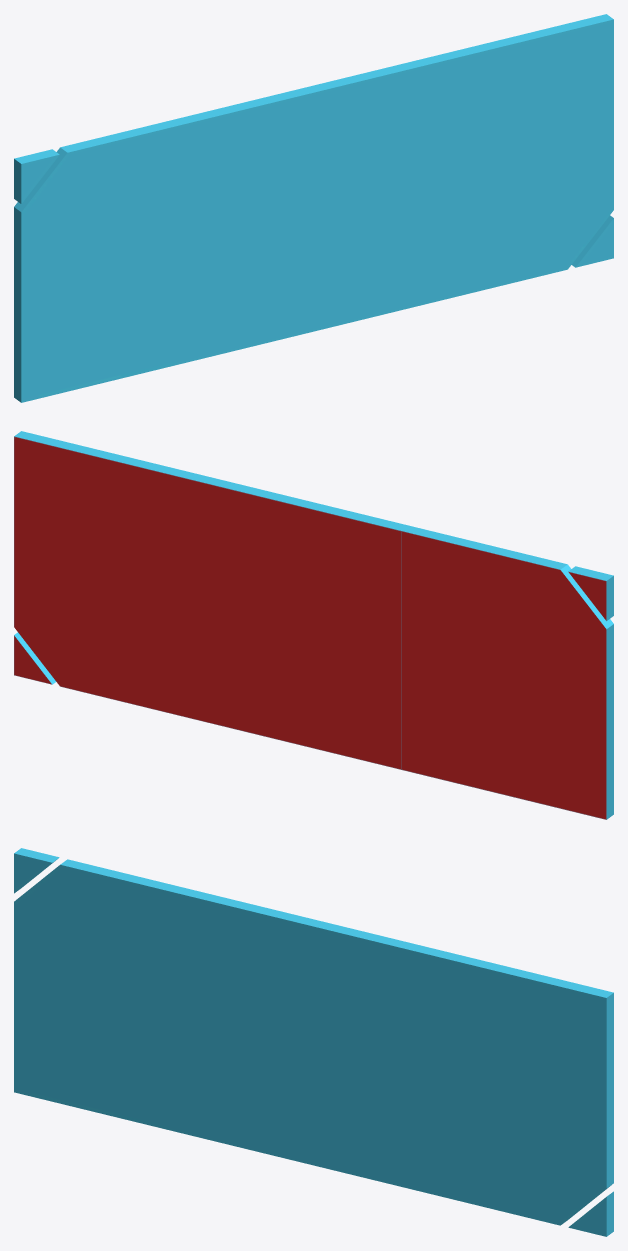
Rendered from lupai_no_line.obj.
The picture shows the model from 3 angles, top to bottom: view 1: azimuth 30°, elevation 25°; view 2: azimuth 150°, elevation 25°; view 3: azimuth 330°, elevation 25°; orthographic projection.
Parts seen in each view (by area): view 1: lupai.001; view 2: lupai.001; view 3: lupai.001.
Boxes of the visible parts, box(x1,y1,x2,y2) form: lupai.001: box(14, 14, 613, 402); lupai.001: box(14, 431, 613, 819); lupai.001: box(14, 848, 613, 1236).
Size of the model in its own units: 231 by 89 by 5.
1 material, 1 textured.
